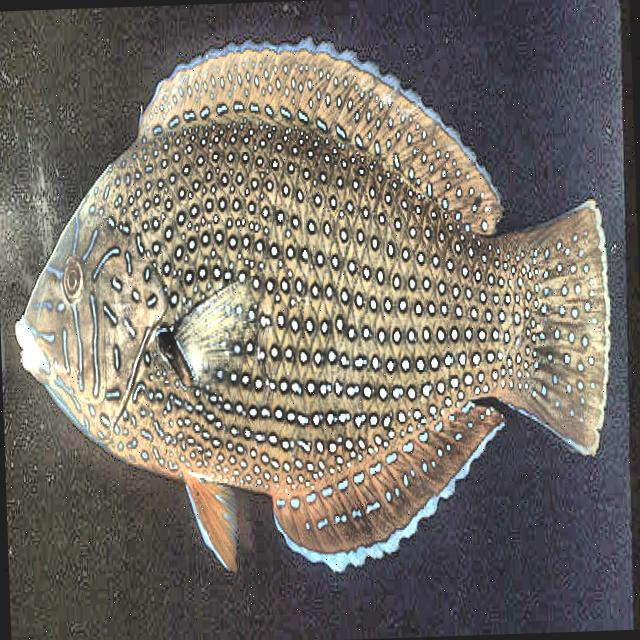fish: (6, 28, 617, 594)
